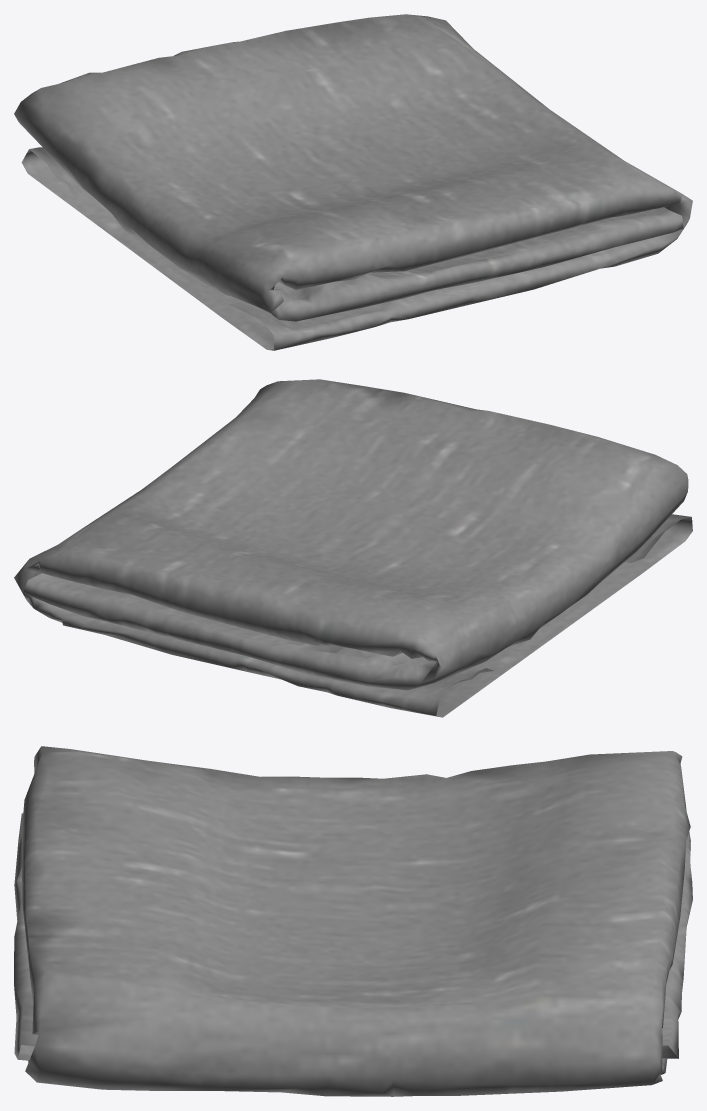
The model's file is YMJ-休闲裤.fbx.
3 views of the same model, one above another, from view 1: azimuth 30°, elevation 25°; view 2: azimuth 150°, elevation 25°; view 3: azimuth 270°, elevation 25° (orthographic). The views are drawn at different scales.
Visible parts, largest first — view 1: YMJ-休闲裤; view 2: YMJ-休闲裤; view 3: YMJ-休闲裤.
Boxes of the visible parts, x1,y1,x2,y2 form: YMJ-休闲裤: [14, 14, 692, 350]; YMJ-休闲裤: [14, 379, 692, 717]; YMJ-休闲裤: [14, 746, 692, 1096].
Bounding box in the file's own units: 0.2799 × 0.2942 × 0.0523.
